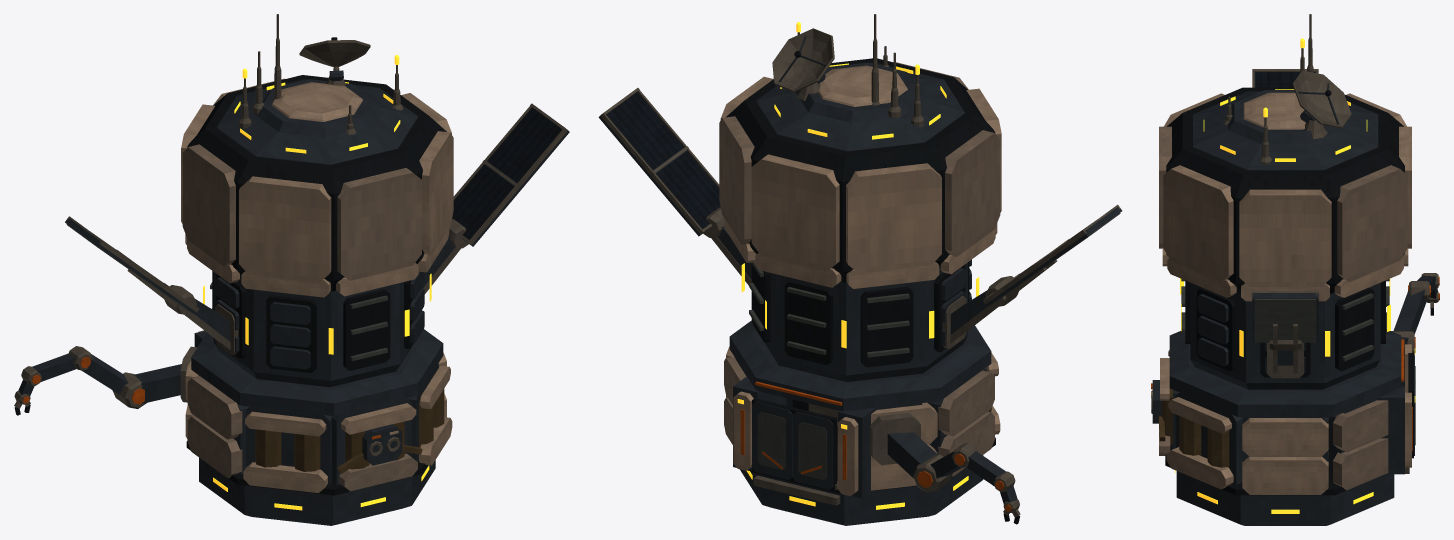
The model's file is replication-r4-lod2.glb.
3 renders of one model, left to right at view 1: azimuth 30°, elevation 25°; view 2: azimuth 150°, elevation 25°; view 3: azimuth 270°, elevation 25°, orthographic. The views are drawn at different scales.
Parts seen in each view (by area): view 1: Station ceramic and hardware trim 2, Fused silica over photovoltaic cells 2, Amber indicators.002; view 2: Station ceramic and hardware trim 2, Fused silica over photovoltaic cells 2, Amber indicators.002; view 3: Station ceramic and hardware trim 2, Amber indicators.002, Fused silica over photovoltaic cells 2.
Part boxes in pixels (box(x1,y1,x2,y2)): Station ceramic and hardware trim 2: box(14, 14, 569, 525); Fused silica over photovoltaic cells 2: box(452, 107, 562, 239); Amber indicators.002: box(203, 82, 431, 510); Station ceramic and hardware trim 2: box(598, 14, 1122, 525); Fused silica over photovoltaic cells 2: box(606, 91, 720, 229); Amber indicators.002: box(737, 63, 979, 509); Station ceramic and hardware trim 2: box(1151, 14, 1439, 525); Amber indicators.002: box(1175, 89, 1415, 513); Fused silica over photovoltaic cells 2: box(1255, 72, 1315, 87).
Bounding box in the file's own units: 75.55 × 71 × 40.65.
Materials: 4 (2 with a texture image).
